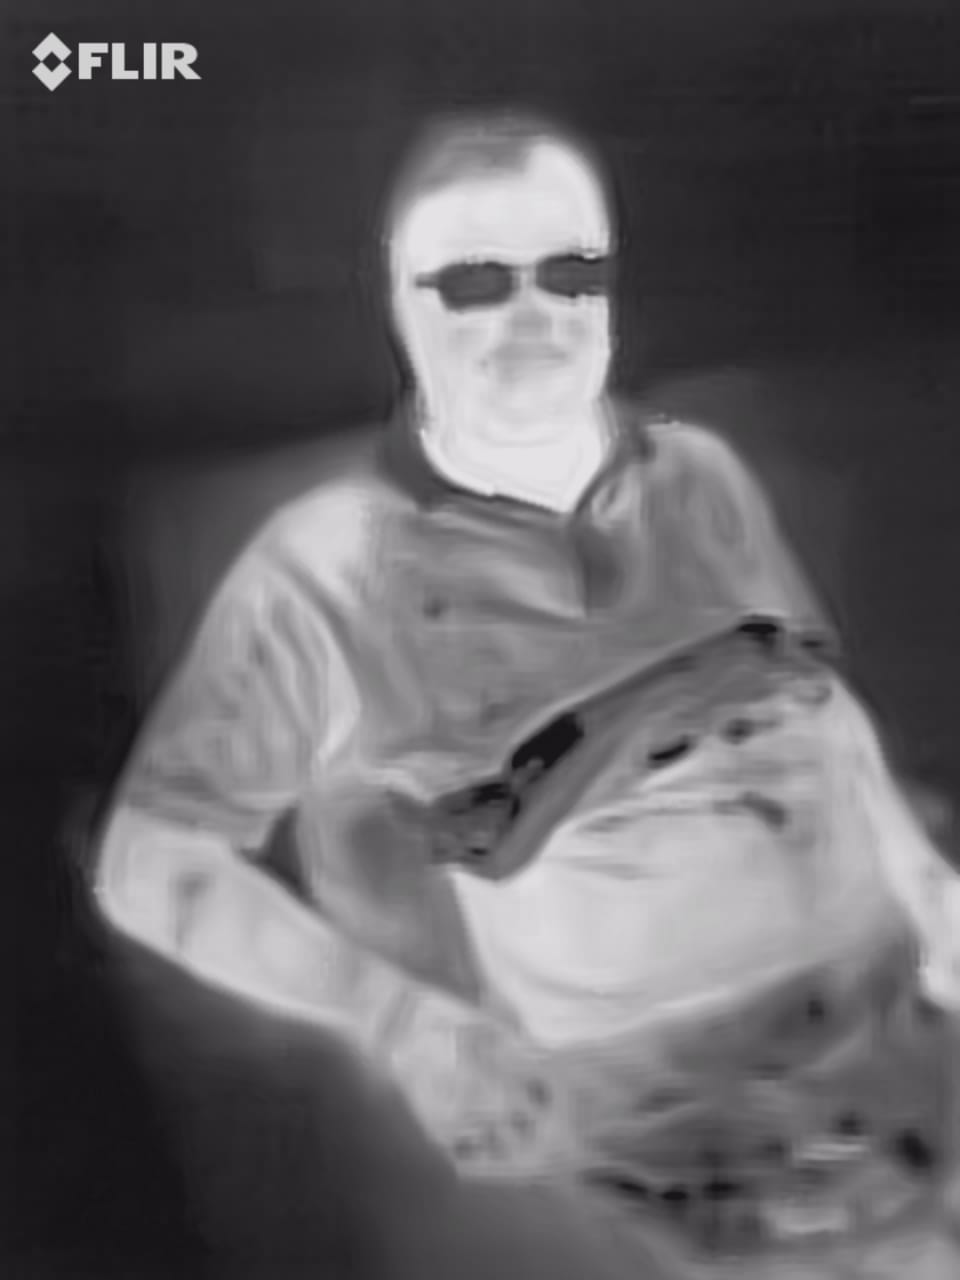head: (372, 106, 645, 437)
